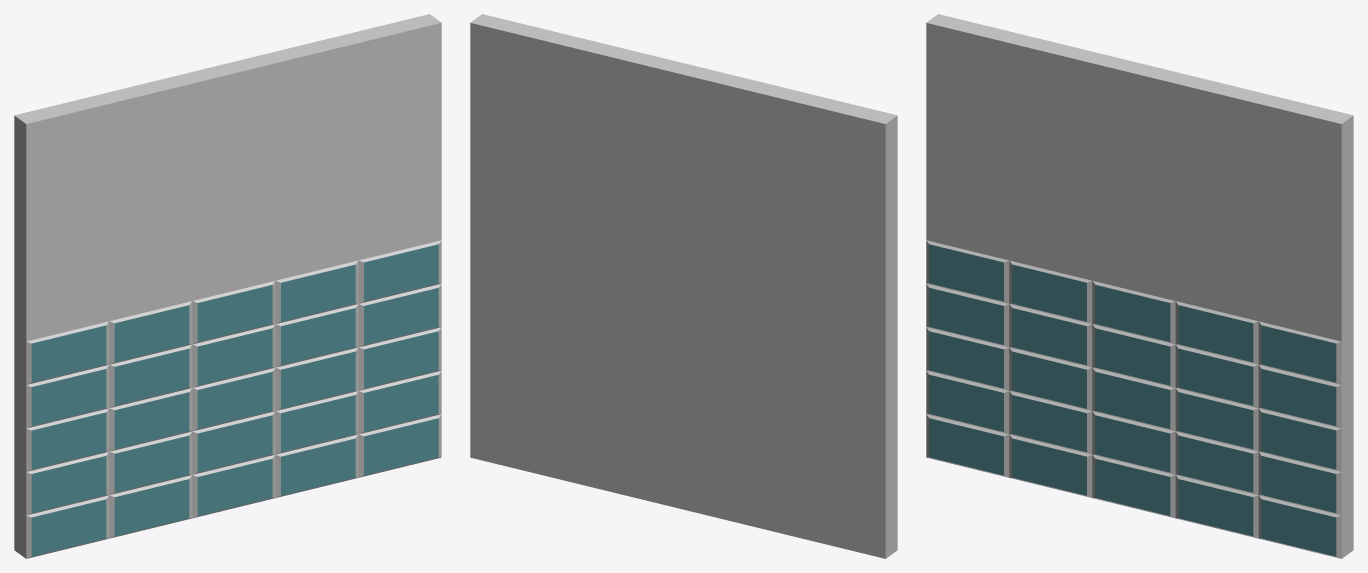
File: Wall 1.fbx
3 renders of one model, left to right at view 1: azimuth 30°, elevation 25°; view 2: azimuth 150°, elevation 25°; view 3: azimuth 330°, elevation 25°, orthographic.
Visible parts, largest first — view 1: Wall 1; view 2: Wall 1; view 3: Wall 1.
Part boxes in pixels (<box>): Wall 1: <box>14,14,441,558</box>; Wall 1: <box>470,14,897,558</box>; Wall 1: <box>926,14,1353,558</box>.
Size of the model in its own units: 2000 by 2000 by 110.
